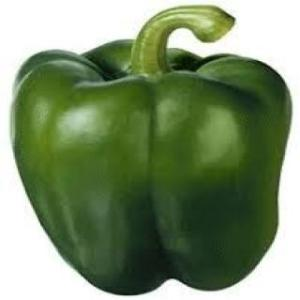bell_pepper: (2, 1, 290, 295)
